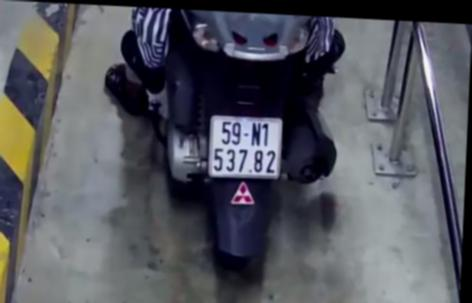License_Plate: (202, 112, 291, 185)
